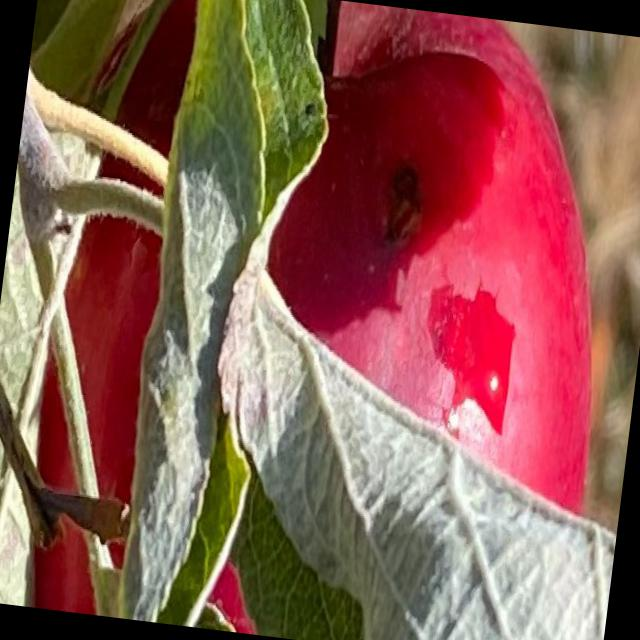Apples: (12, 0, 638, 639)
